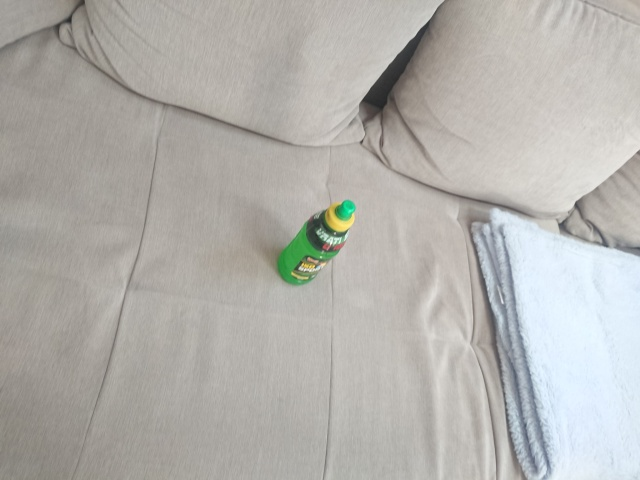Vindi Iso Sport Lemon-Grapefruit 500mL: (274, 197, 358, 288)
